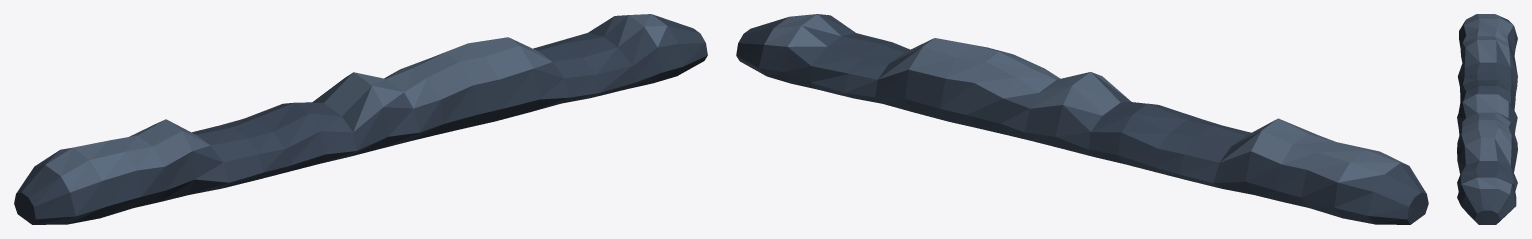
File: ledge_z2_rock_long.glb
3 renders of one model, left to right at view 1: azimuth 30°, elevation 25°; view 2: azimuth 150°, elevation 25°; view 3: azimuth 270°, elevation 25°, orthographic. The views are drawn at different scales.
Parts seen in each view (by area): view 1: ledge_z2_rock_long; view 2: ledge_z2_rock_long; view 3: ledge_z2_rock_long.
Boxes of the visible parts, x1,y1,x2,y2 form: ledge_z2_rock_long: (14, 14, 707, 224); ledge_z2_rock_long: (736, 14, 1428, 224); ledge_z2_rock_long: (1457, 14, 1517, 224).
Bounding box in the file's own units: 12 × 1 × 1.6.
